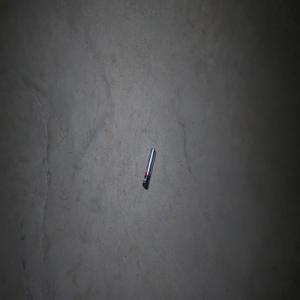Battery: (142, 146, 156, 189)
